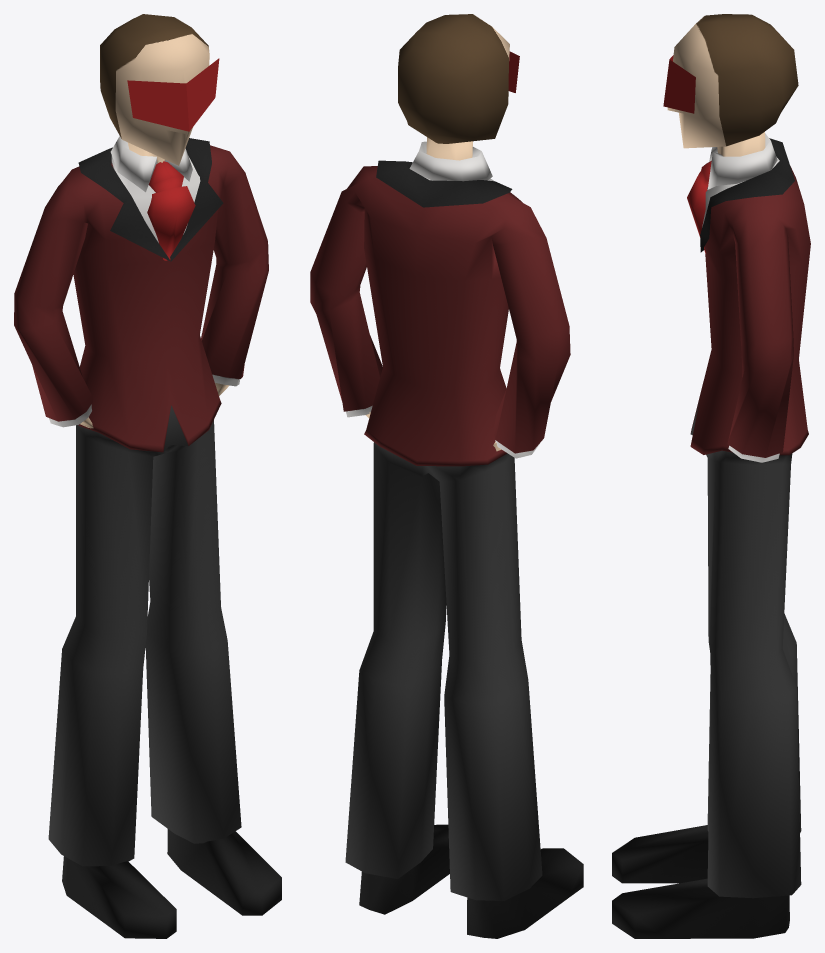
Rendered from Character4.fbx.
3 renders of one model, left to right at view 1: azimuth 30°, elevation 25°; view 2: azimuth 150°, elevation 25°; view 3: azimuth 270°, elevation 25°, orthographic. The views are drawn at different scales.
Visible parts, largest first — view 1: CHARA_Base.004, CHARA_Base_Head.004, CHARA_Base_Mask.004; view 2: CHARA_Base.004, CHARA_Base_Head.004; view 3: CHARA_Base.004, CHARA_Base_Head.004, CHARA_Base_Mask.004.
Boxes of the visible parts, x1,y1,x2,y2 form: CHARA_Base.004: (14,136,281,938); CHARA_Base_Head.004: (100,14,209,165); CHARA_Base_Mask.004: (127,58,219,131); CHARA_Base.004: (310,137,583,938); CHARA_Base_Head.004: (398,14,509,143); CHARA_Base.004: (612,132,810,938); CHARA_Base_Head.004: (667,14,798,148); CHARA_Base_Mask.004: (663,55,695,113).
Bounding box in the file's own units: 60.68 × 201 × 41.21.
